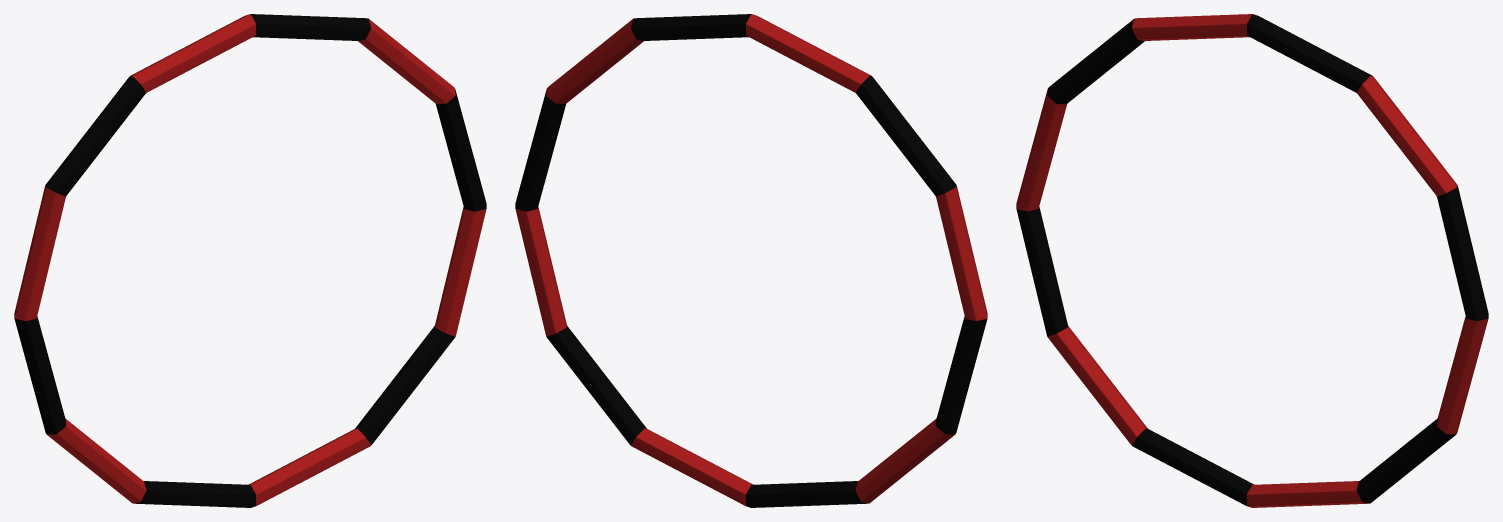
The model's file is Hoop.fbx.
The picture shows the model from 3 angles, left to right: view 1: azimuth 30°, elevation 25°; view 2: azimuth 150°, elevation 25°; view 3: azimuth 330°, elevation 25°; orthographic projection.
Visible parts, largest first — view 1: Hoop; view 2: Hoop; view 3: Hoop.
Boxes of the visible parts, left/top/right/bottom form: Hoop: left=14, top=14, right=486, bottom=507; Hoop: left=515, top=14, right=987, bottom=507; Hoop: left=1016, top=14, right=1488, bottom=507.
Size of the model in its own units: 3.01 by 3.01 by 0.1244.
